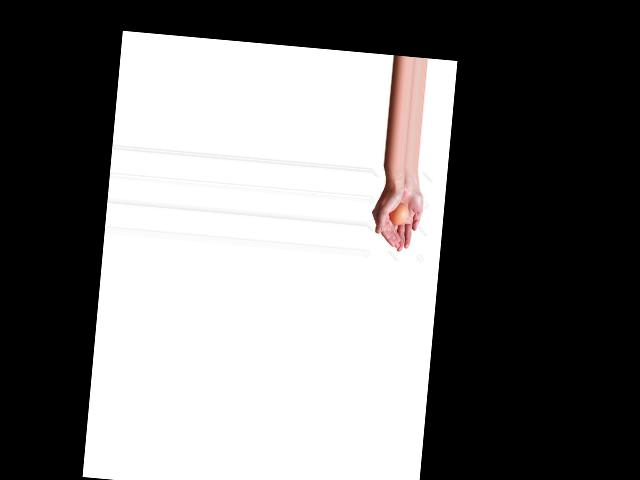egg: (388, 203, 408, 225)
